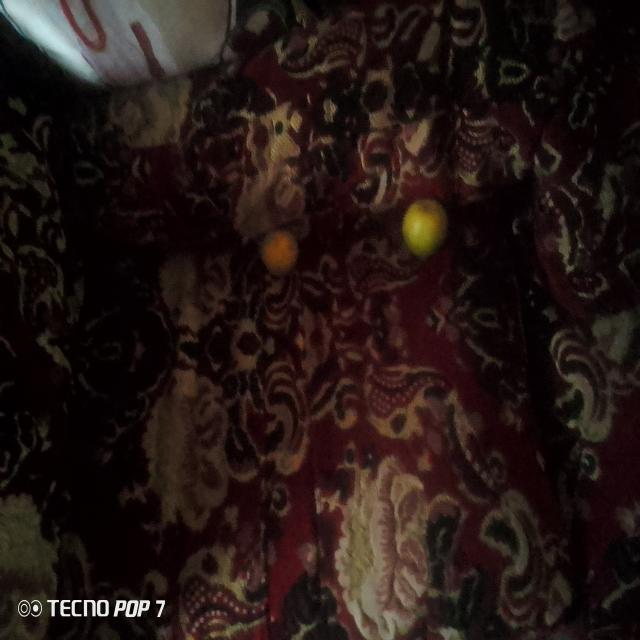Ripe orange: (392, 192, 451, 255), (256, 224, 302, 284)
